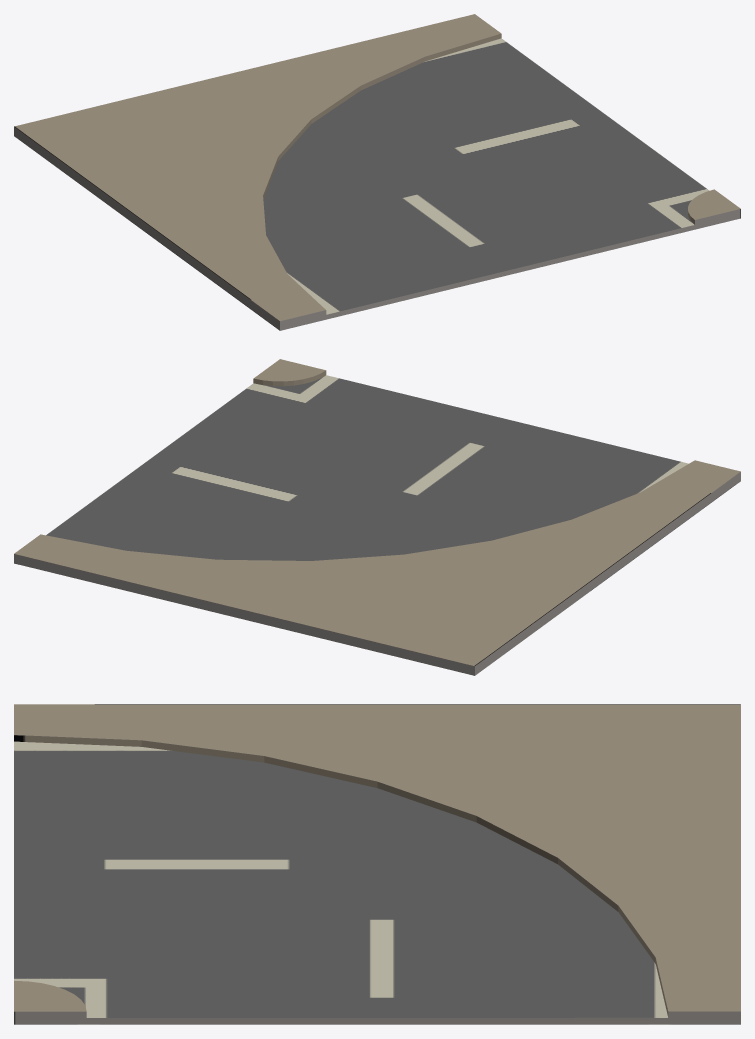
File: road_bend.glb
3 renders of one model, top to bottom at view 1: azimuth 30°, elevation 25°; view 2: azimuth 150°, elevation 25°; view 3: azimuth 270°, elevation 25°, orthographic. The views are drawn at different scales.
Parts seen in each view (by area): view 1: Cube; view 2: Cube; view 3: Cube.
Boxes of the visible parts, box(x1,y1,x2,y2) form: Cube: box(14, 14, 740, 330); Cube: box(14, 359, 740, 675); Cube: box(14, 704, 740, 1024).
Bounding box in the file's own units: 15 × 0.3 × 15.
1 material, 1 textured.
